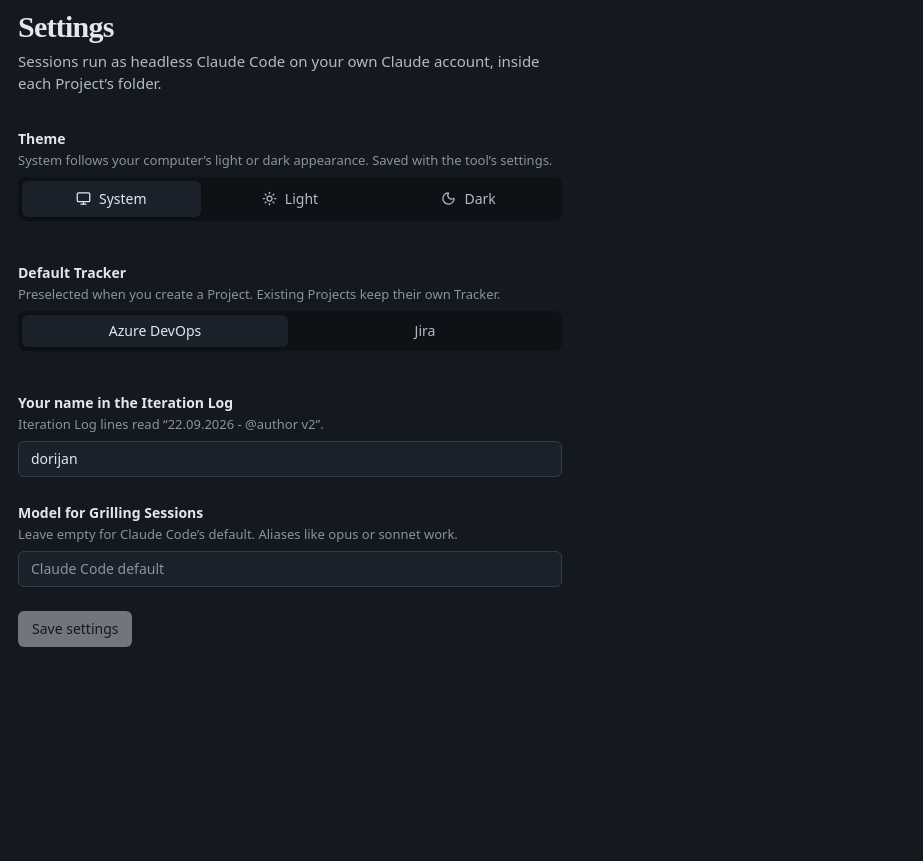
Test case: SettingsPage › saves author and model
Expected: the button "Save settings" is disabled, [18,610,132,646]
Type " opus " into the field labelled "Model for Grilling Sessions" at (290, 568), box [18,550,562,586]
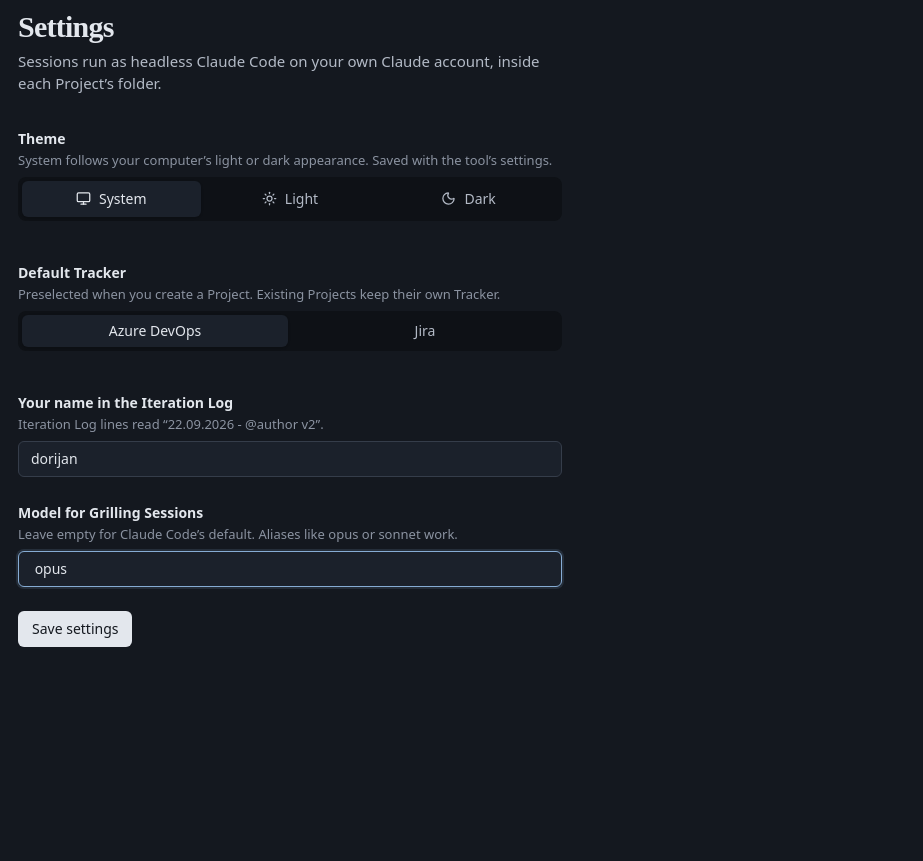
Click the button "Save settings" at (75, 628), box [18,610,132,646]
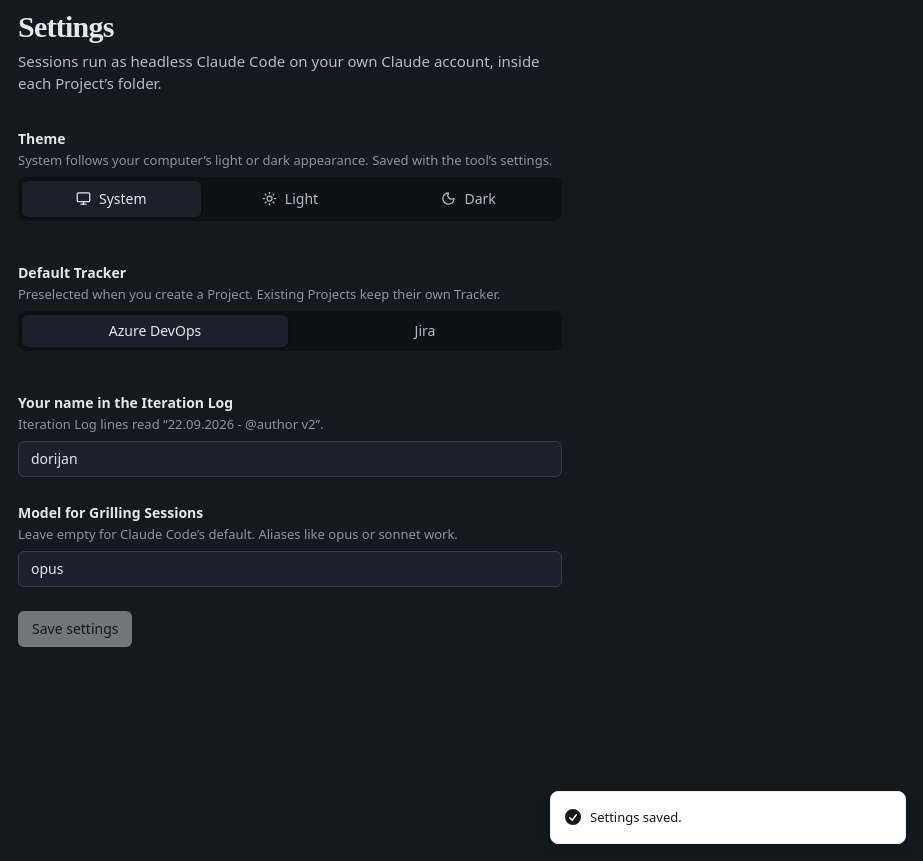
Expected: the text "Settings saved." is shown, [590,808,682,827]
